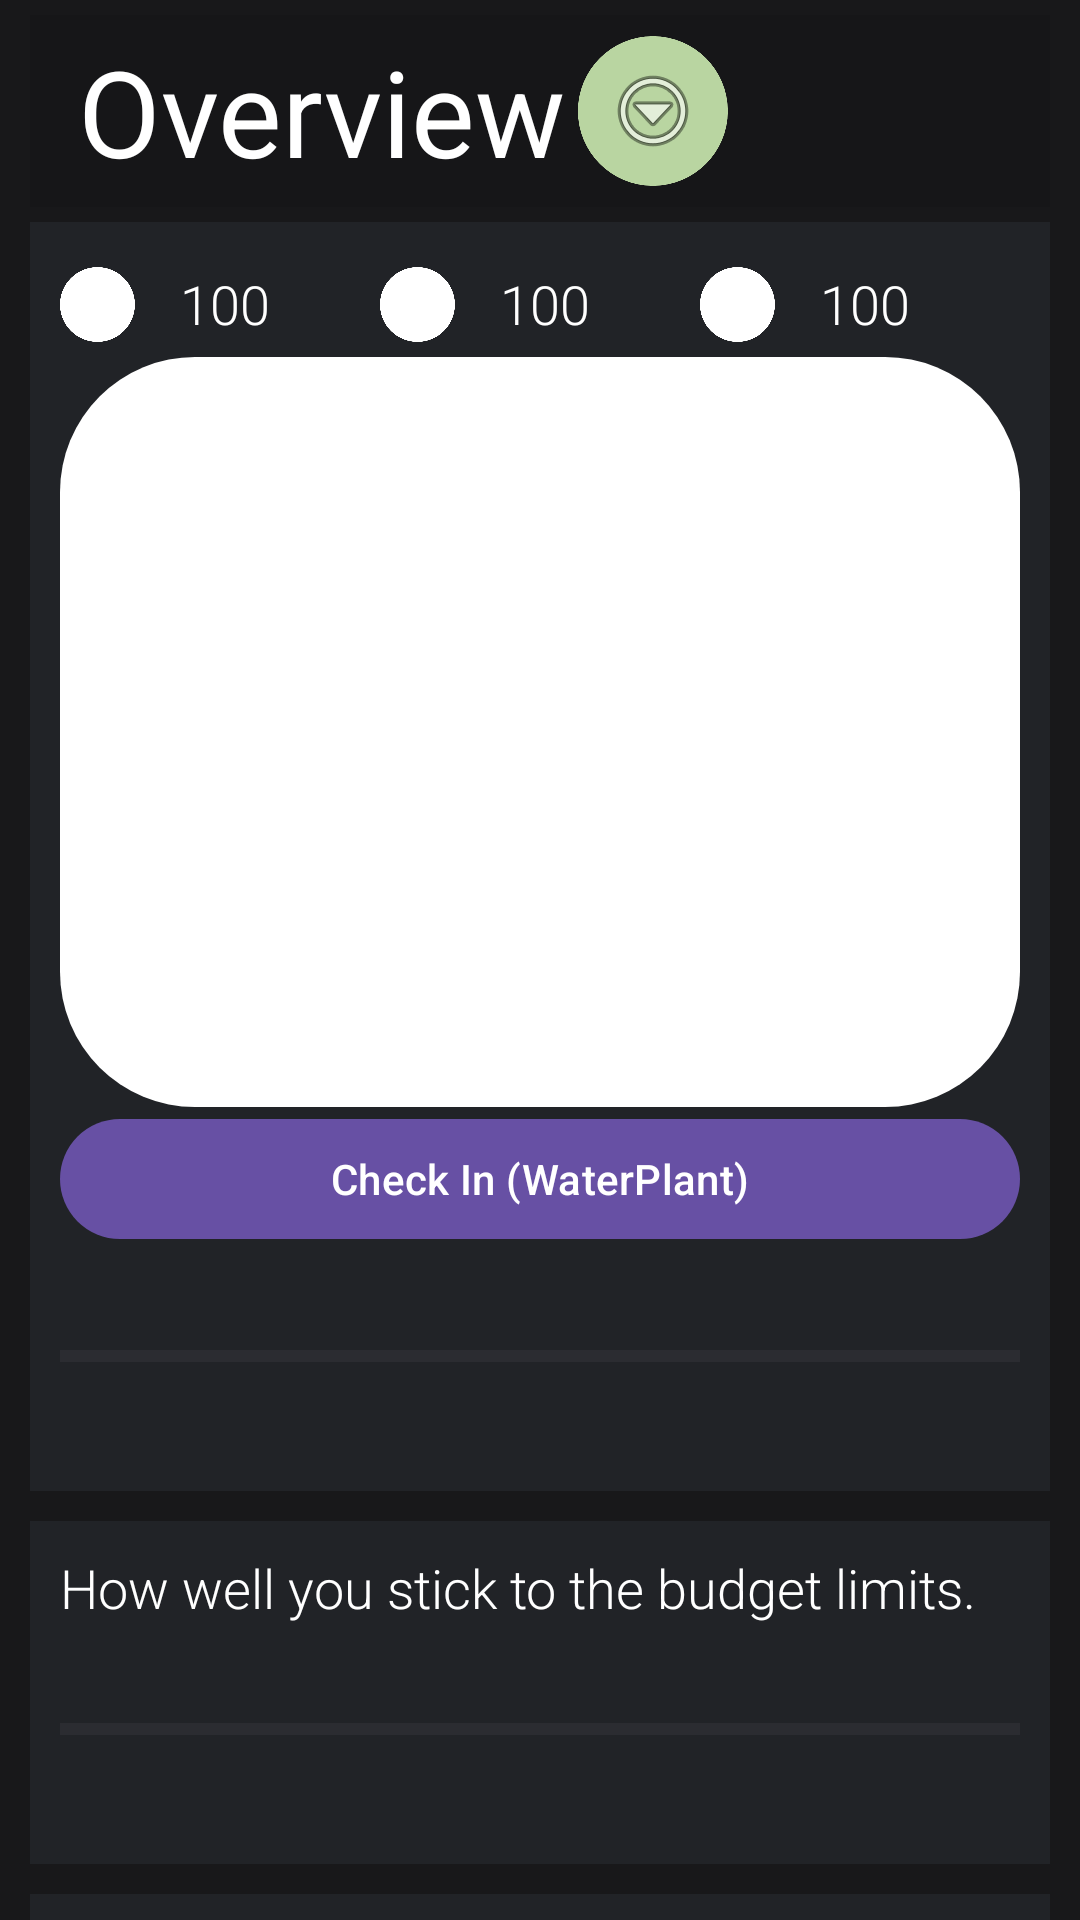

Icons on this 1080×1920 Android screen, each with its box as (x1, y1, x2, y2):
Menu button: (578, 36, 728, 186)
